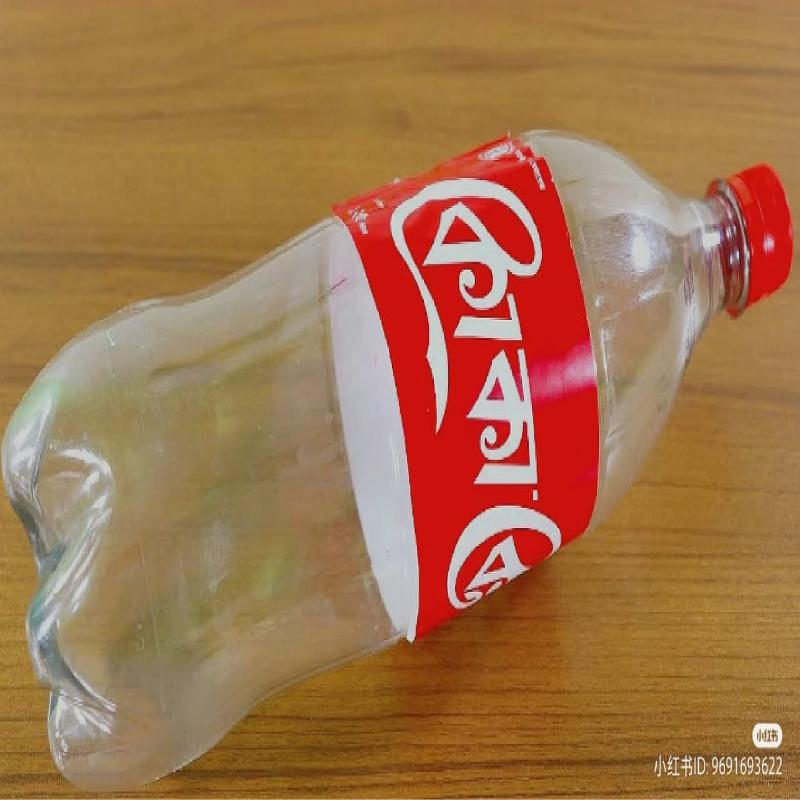botella: (3, 104, 800, 783)
